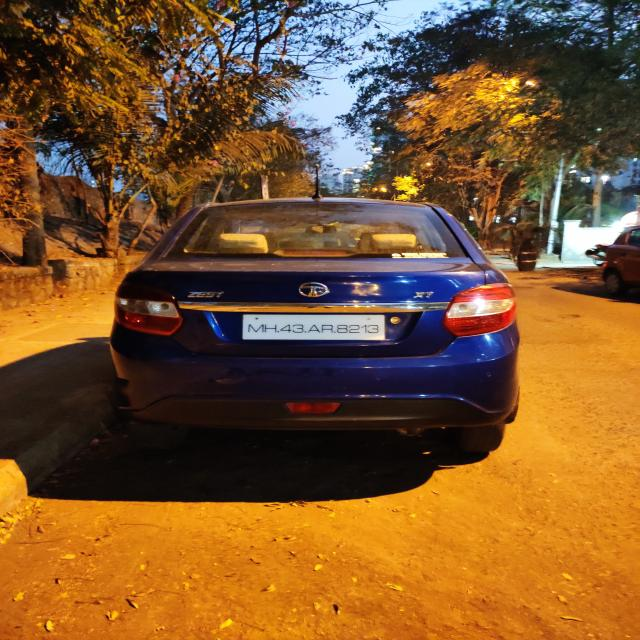Number-Plate: (246, 314, 384, 336)
